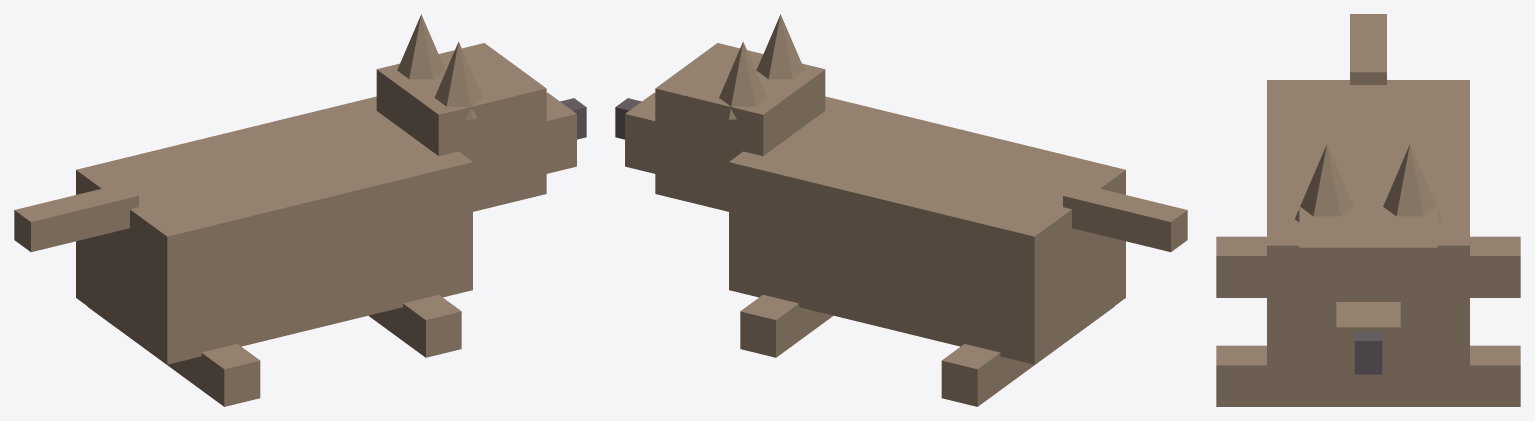
The model's file is dog.glb.
3 views of the same model, side by side, from view 1: azimuth 30°, elevation 25°; view 2: azimuth 150°, elevation 25°; view 3: azimuth 270°, elevation 25° (orthographic). The views are drawn at different scales.
Parts seen in each view (by area): view 1: Body, Head, Tail, Leg-0.28-0.12, Leg0.28-0.12, Snout, Ear-1, Ear1; view 2: Body, Head, Tail, Leg-0.280.12, Leg0.280.12, Snout, Ear1, Ear-1; view 3: Body, Head, Leg0.28-0.12, Leg0.280.12, Snout, Leg-0.28-0.12, Leg-0.280.12, Tail, Ear-1, Ear1, Nose.
Boxes of the visible parts, x1,y1,x2,y2 form: Body: [76, 96, 472, 364]; Head: [376, 43, 546, 211]; Tail: [14, 183, 138, 252]; Leg-0.28-0.12: [137, 343, 260, 406]; Leg0.28-0.12: [376, 294, 461, 357]; Snout: [546, 92, 576, 173]; Ear-1: [434, 42, 482, 119]; Ear1: [397, 14, 445, 79]; Body: [729, 96, 1125, 364]; Head: [655, 43, 825, 211]; Tail: [1063, 183, 1187, 252]; Leg-0.280.12: [941, 344, 1027, 406]; Leg0.280.12: [740, 294, 825, 357]; Snout: [625, 92, 655, 173]; Ear1: [719, 42, 767, 119]; Ear-1: [756, 14, 804, 79]; Body: [1267, 80, 1469, 387]; Head: [1299, 189, 1437, 364]; Leg0.28-0.12: [1216, 345, 1409, 406]; Leg0.280.12: [1327, 345, 1520, 406]; Snout: [1336, 302, 1400, 385]; Leg-0.28-0.12: [1216, 236, 1266, 297]; Leg-0.280.12: [1470, 236, 1520, 297]; Tail: [1350, 14, 1386, 84]; Ear-1: [1295, 144, 1353, 221]; Ear1: [1383, 144, 1441, 221]; Nose: [1354, 331, 1382, 374].
Size of the model in its own units: 1.55 by 0.69 by 0.66.
